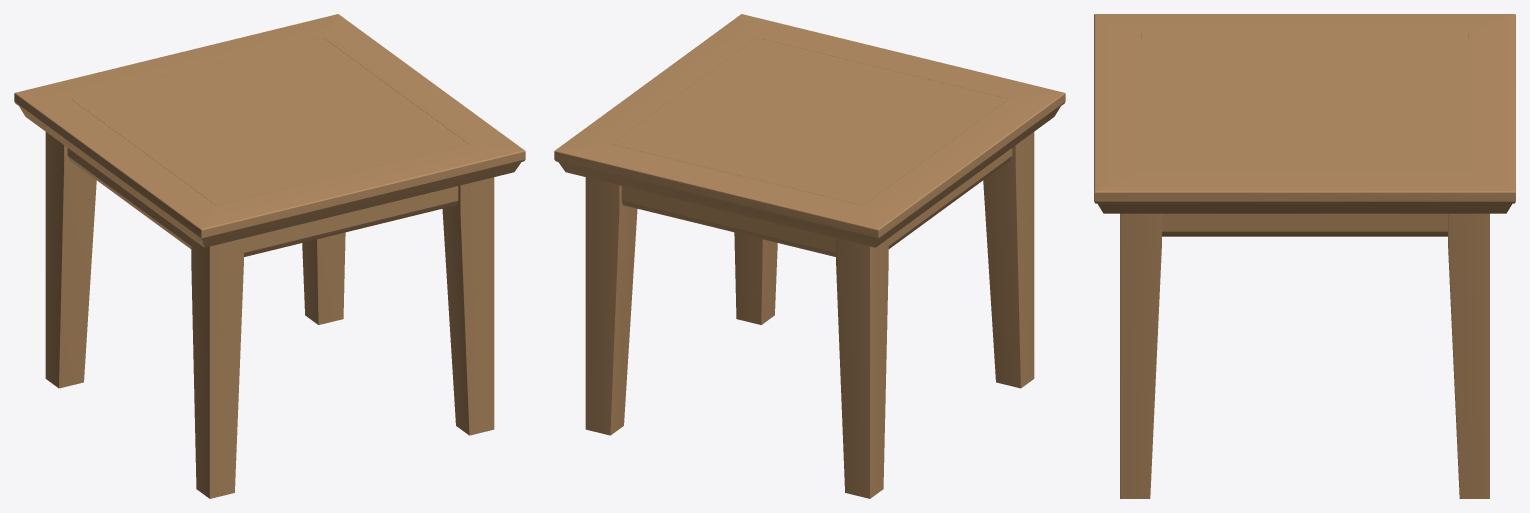
File: 10089_Table-90x90.glb
The picture shows the model from 3 angles, left to right: view 1: azimuth 30°, elevation 25°; view 2: azimuth 150°, elevation 25°; view 3: azimuth 270°, elevation 25°; orthographic projection. The views are drawn at different scales.
Visible parts, largest first — view 1: 10089_Table-90x90_05_4, 10089_Table-90x90_10_9, 10089_Table-90x90_11_10, 10089_Table-90x90_13_12, 10089_Table-90x90_01_0, 10089_Table-90x90_04_3, 10089_Table-90x90_03_2, 10089_Table-90x90_02_1, 10089_Table-90x90_14_13, 10089_Table-90x90_12_11, 10089_Table-90x90_06_5, 10089_Table-90x90_17_16 (+1 smaller); view 2: 10089_Table-90x90_05_4, 10089_Table-90x90_13_12, 10089_Table-90x90_12_11, 10089_Table-90x90_10_9, 10089_Table-90x90_03_2, 10089_Table-90x90_04_3, 10089_Table-90x90_01_0, 10089_Table-90x90_02_1, 10089_Table-90x90_16_15, 10089_Table-90x90_11_10, 10089_Table-90x90_08_7, 10089_Table-90x90_17_16 (+1 smaller); view 3: 10089_Table-90x90_05_4, 10089_Table-90x90_02_1, 10089_Table-90x90_11_10, 10089_Table-90x90_12_11, 10089_Table-90x90_01_0, 10089_Table-90x90_03_2, 10089_Table-90x90_04_3, 10089_Table-90x90_15_14, 10089_Table-90x90_07_6.
Boxes of the visible parts, x1,y1,x2,y2 form: 10089_Table-90x90_05_4: [71, 37, 468, 205]; 10089_Table-90x90_10_9: [191, 238, 243, 498]; 10089_Table-90x90_11_10: [442, 177, 494, 435]; 10089_Table-90x90_13_12: [45, 132, 96, 388]; 10089_Table-90x90_01_0: [201, 144, 525, 239]; 10089_Table-90x90_04_3: [14, 92, 216, 239]; 10089_Table-90x90_03_2: [16, 14, 337, 98]; 10089_Table-90x90_02_1: [323, 14, 524, 150]; 10089_Table-90x90_14_13: [244, 186, 458, 256]; 10089_Table-90x90_12_11: [302, 232, 345, 324]; 10089_Table-90x90_06_5: [202, 162, 521, 247]; 10089_Table-90x90_17_16: [67, 148, 191, 248]; 10089_Table-90x90_05_4: [611, 37, 1008, 205]; 10089_Table-90x90_13_12: [836, 238, 888, 498]; 10089_Table-90x90_12_11: [585, 177, 637, 435]; 10089_Table-90x90_10_9: [983, 132, 1034, 388]; 10089_Table-90x90_03_2: [554, 144, 878, 239]; 10089_Table-90x90_04_3: [863, 92, 1065, 239]; 10089_Table-90x90_01_0: [742, 14, 1063, 98]; 10089_Table-90x90_02_1: [555, 14, 756, 150]; 10089_Table-90x90_16_15: [621, 186, 835, 256]; 10089_Table-90x90_11_10: [734, 232, 777, 324]; 10089_Table-90x90_08_7: [558, 162, 877, 247]; 10089_Table-90x90_17_16: [888, 148, 1012, 248]; 10089_Table-90x90_05_4: [1141, 33, 1468, 171]; 10089_Table-90x90_02_1: [1094, 172, 1515, 203]; 10089_Table-90x90_11_10: [1120, 213, 1161, 498]; 10089_Table-90x90_12_11: [1448, 213, 1489, 498]; 10089_Table-90x90_01_0: [1094, 14, 1141, 201]; 10089_Table-90x90_03_2: [1468, 14, 1515, 201]; 10089_Table-90x90_04_3: [1096, 14, 1513, 38]; 10089_Table-90x90_15_14: [1162, 213, 1447, 236]; 10089_Table-90x90_07_6: [1098, 203, 1511, 213].
Bounding box in the file's own units: 90 × 74.9 × 90.
